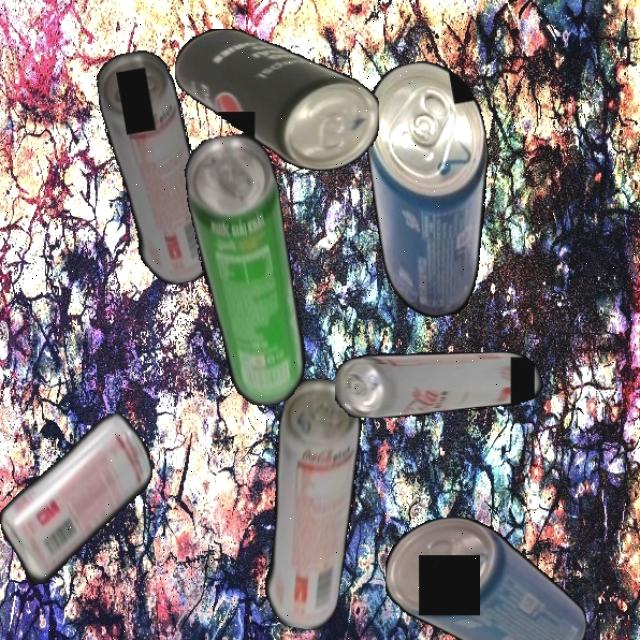debris: (351, 53, 516, 324), (178, 129, 316, 412), (245, 374, 375, 634), (92, 45, 215, 291), (0, 409, 168, 589), (174, 29, 379, 171), (385, 516, 586, 640), (335, 351, 546, 418)
